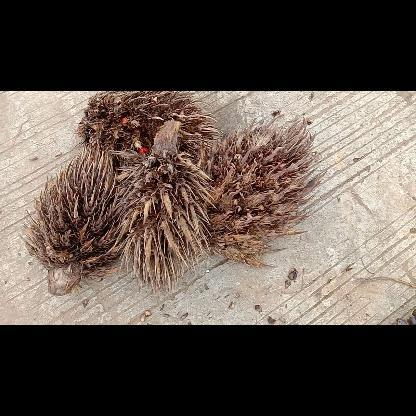Janjang kosong: (194, 115, 326, 267), (108, 121, 218, 296), (19, 143, 130, 295), (76, 91, 222, 169)
